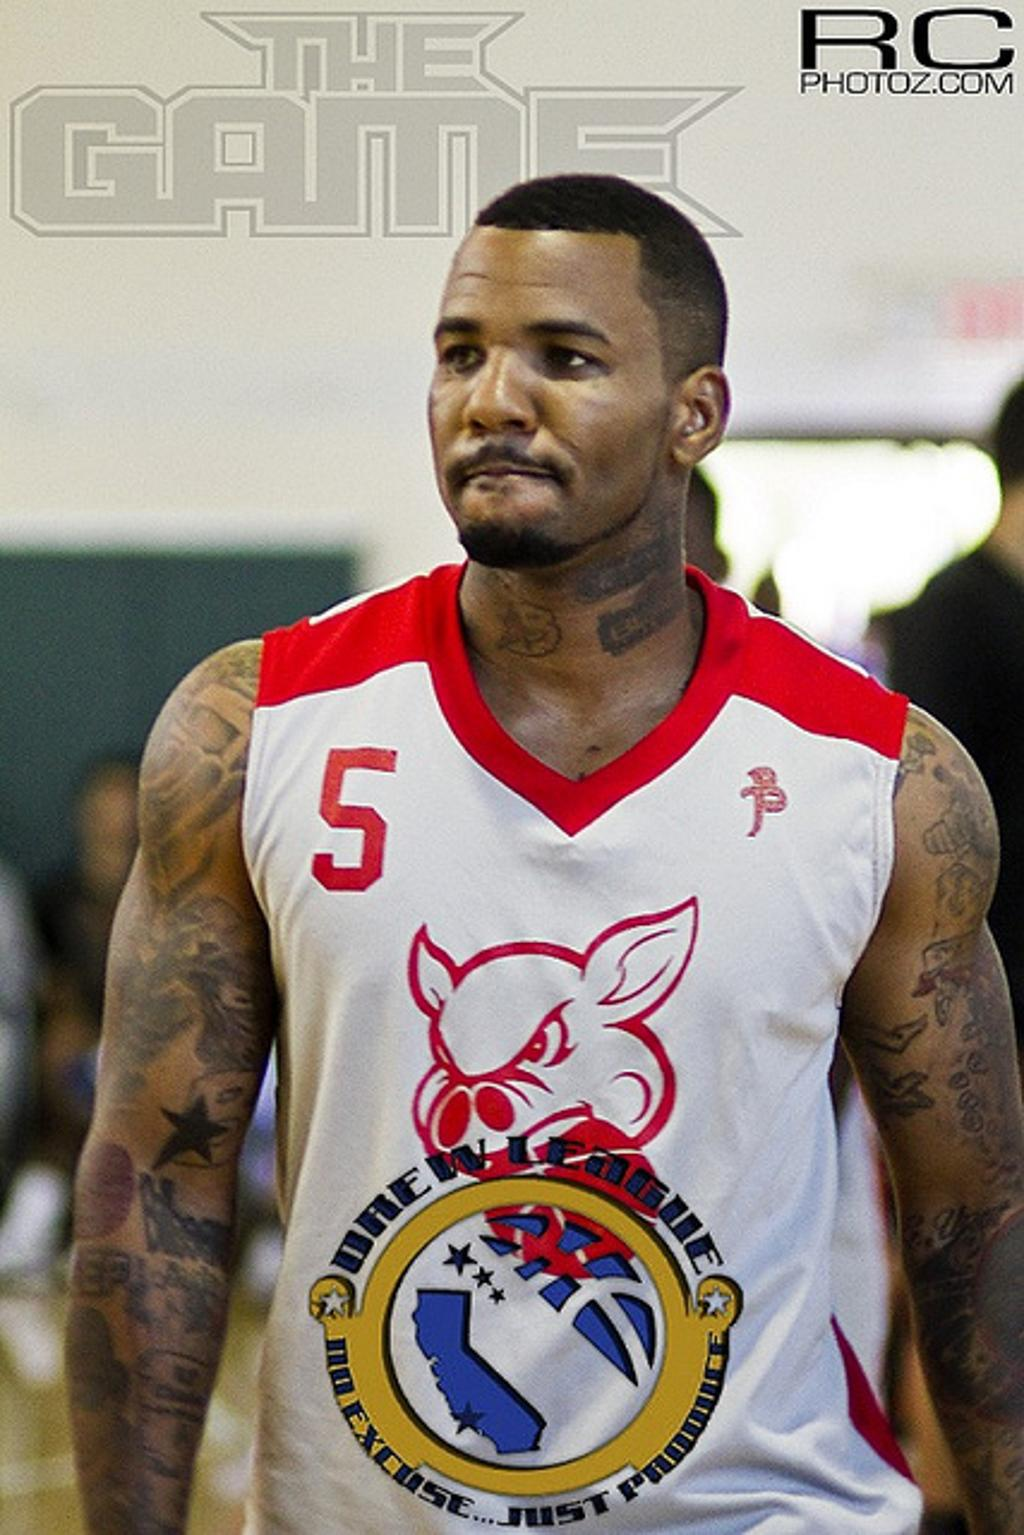face: (423, 211, 675, 546)
